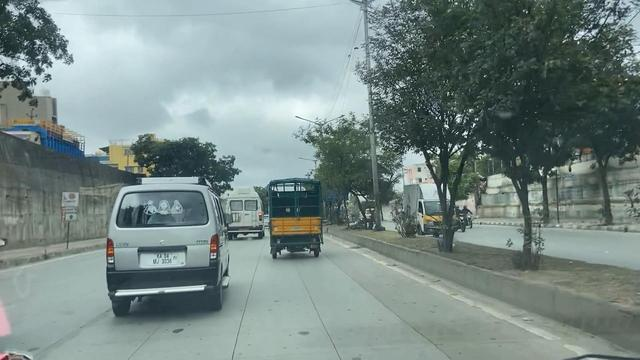HMV: (262, 178, 325, 257)
LMV: (105, 176, 227, 318)
